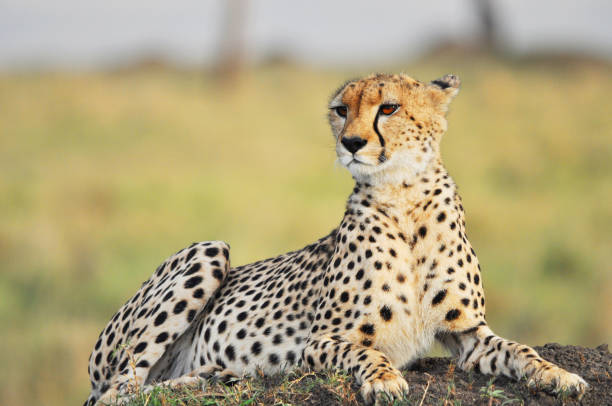cheetah: (312, 59, 475, 198)
